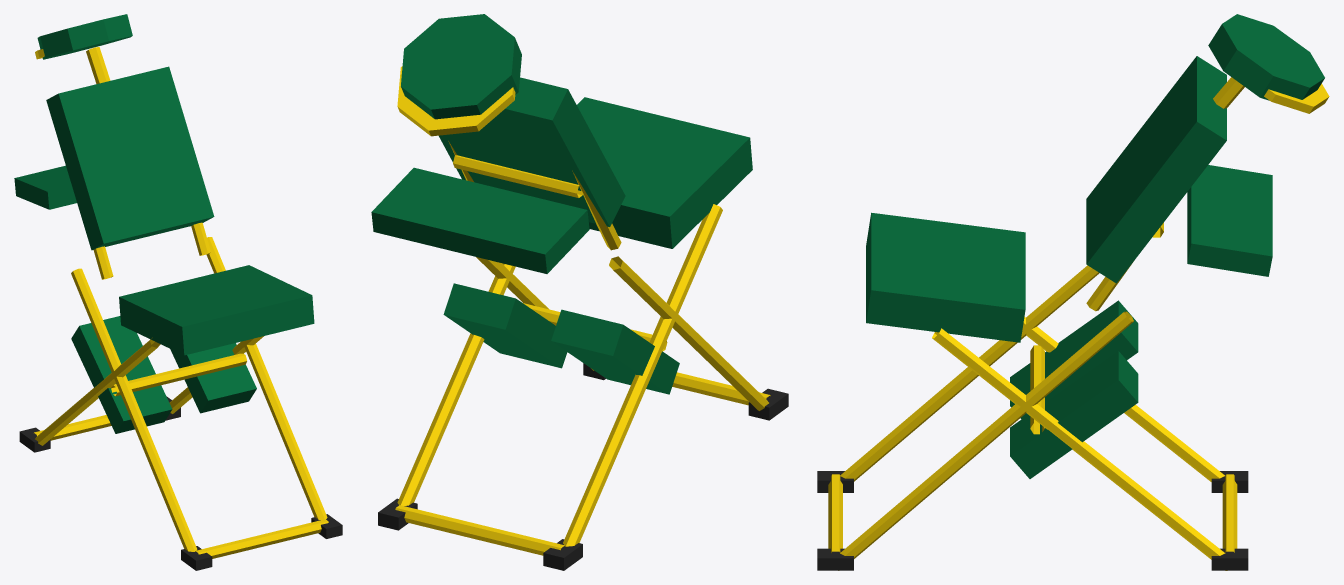
Rendered from chair.glb.
The picture shows the model from 3 angles, left to right: view 1: azimuth 30°, elevation 25°; view 2: azimuth 150°, elevation 25°; view 3: azimuth 270°, elevation 25°; orthographic projection. The views are drawn at different scales.
Parts seen in each view (by area): view 1: ChestPad, Frame, Seat, Kneelers, FaceCradle, Armrest; view 2: Frame, Seat, Armrest, ChestPad, FaceCradle, Kneelers; view 3: Frame, Seat, ChestPad, Kneelers, Armrest, FaceCradle.
Boxes of the visible parts, x1,y1,x2,y2 form: ChestPad: [46, 66, 214, 250]; Frame: [19, 47, 342, 570]; Seat: [119, 265, 314, 355]; Kneelers: [71, 316, 256, 433]; FaceCradle: [35, 14, 132, 59]; Armrest: [14, 165, 76, 209]; Frame: [378, 140, 788, 570]; Seat: [577, 97, 752, 248]; Armrest: [371, 167, 589, 273]; ChestPad: [439, 77, 625, 226]; FaceCradle: [397, 14, 521, 136]; Kneelers: [443, 283, 679, 394]; Frame: [817, 77, 1248, 570]; Seat: [866, 212, 1025, 342]; ChestPad: [1086, 56, 1226, 283]; Kneelers: [1010, 300, 1138, 478]; Armrest: [1187, 165, 1272, 276]; FaceCradle: [1208, 14, 1329, 113].
Bounding box in the file's own units: 0.45 × 1.22 × 1.12.
